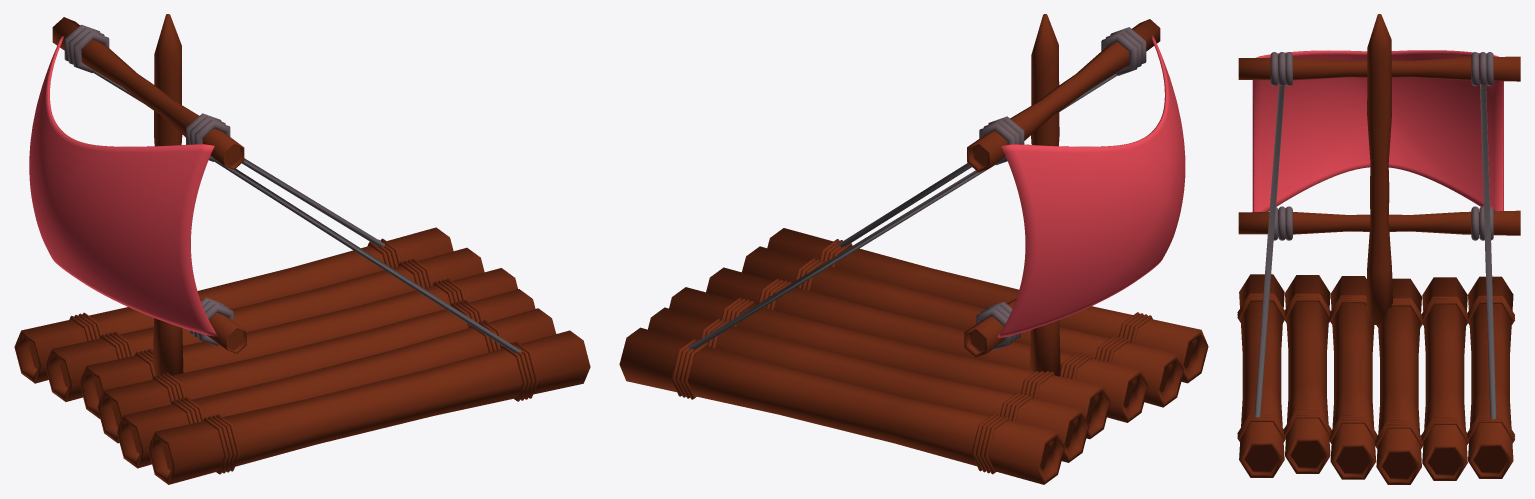
File: raft.fbx
3 views of the same model, side by side, from view 1: azimuth 30°, elevation 25°; view 2: azimuth 150°, elevation 25°; view 3: azimuth 270°, elevation 25° (orthographic). The views are drawn at different scales.
Visible parts, largest first — view 1: Raft; view 2: Raft; view 3: Raft.
Boxes of the visible parts, x1,y1,x2,y2 form: Raft: [14, 14, 590, 484]; Raft: [619, 14, 1208, 484]; Raft: [1237, 14, 1520, 484].
Size of the model in its own units: 19.79 by 15.96 by 12.42.
